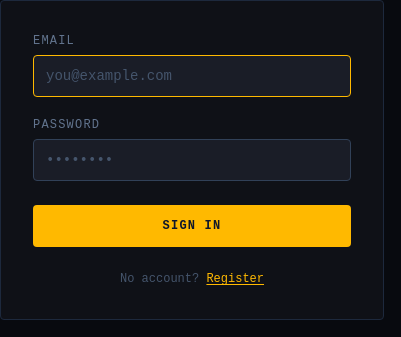
Test case: LoginForm › disables submit button while loading
Type "a@b.com" into the field with placeholder "you@example.com".
click(192, 76); type("a@b.com")  # box [33,55,351,97]
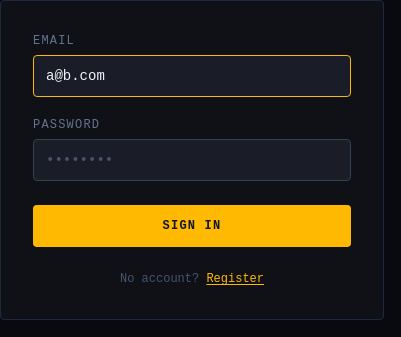
Type "pass" into the password field with placeholder "••••••••".
click(192, 160); type("pass")  # box [33,139,351,181]
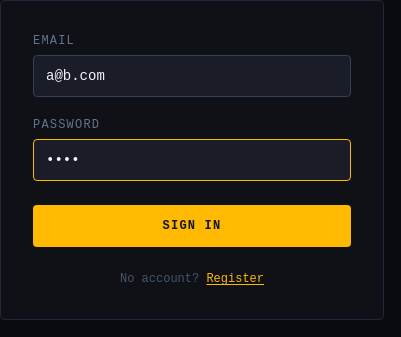
Click the button with test id "submit-button".
click(192, 226)  # box [33,205,351,247]
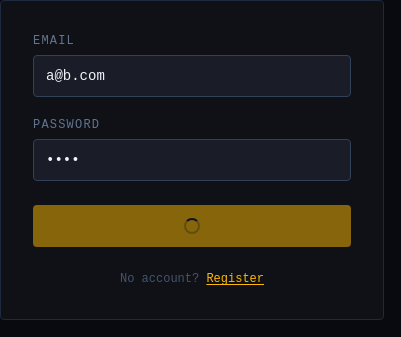
Now the button with test id "submit-button" is disabled, box [33,205,351,247]
